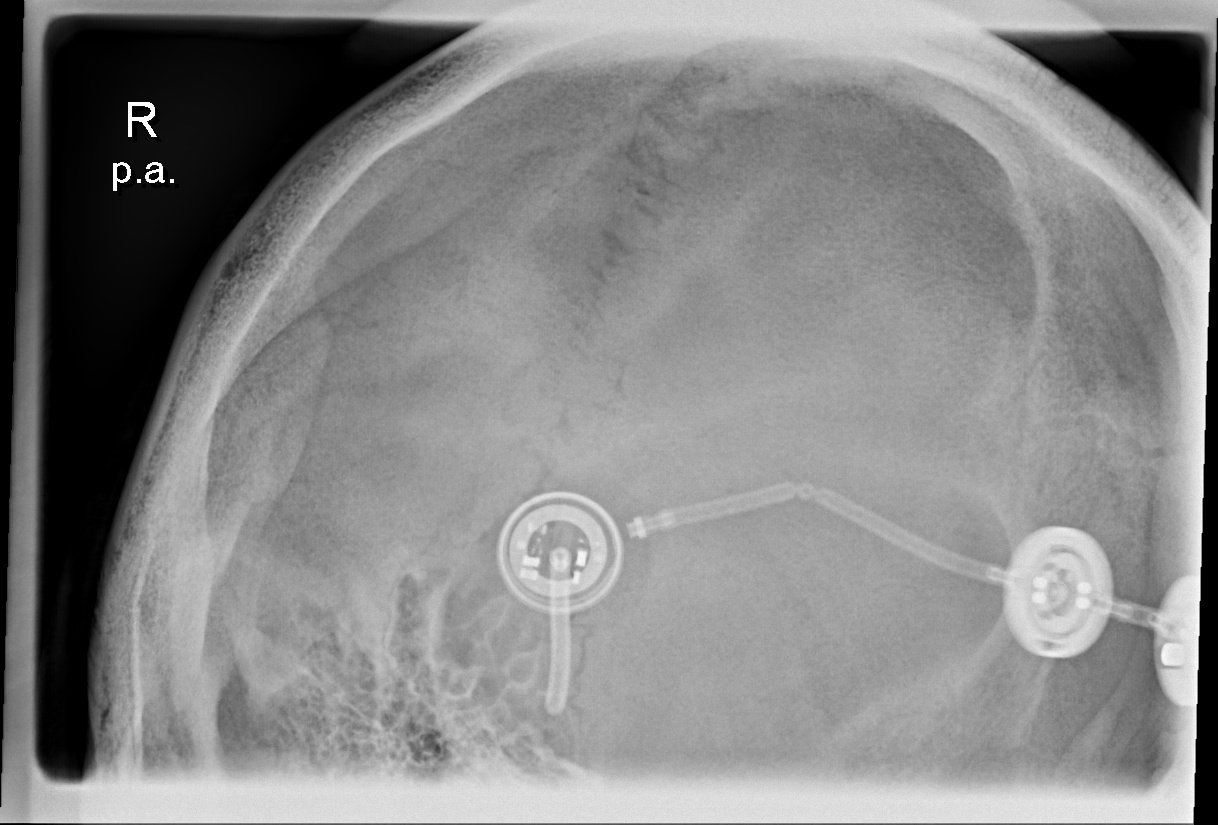proGAV 2.0: (1005, 522, 1115, 671)
proSA: (1156, 563, 1201, 738)
